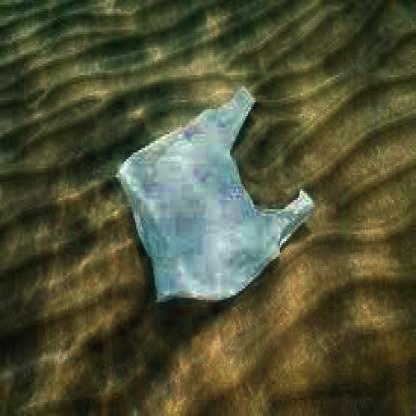pbag: (115, 84, 315, 307)
